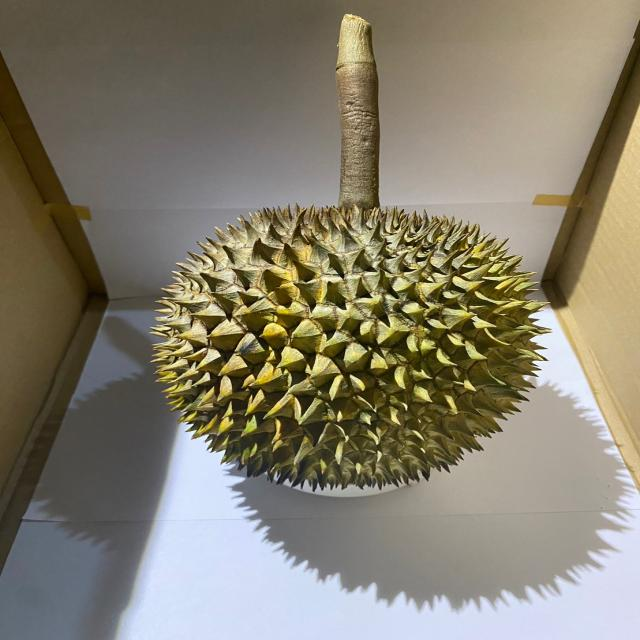immature: (149, 201, 556, 492)
